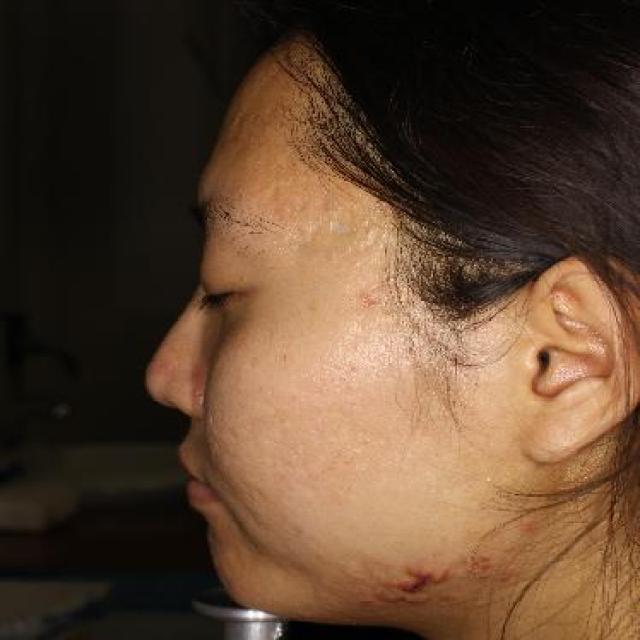nodules: (363, 552, 460, 610)
